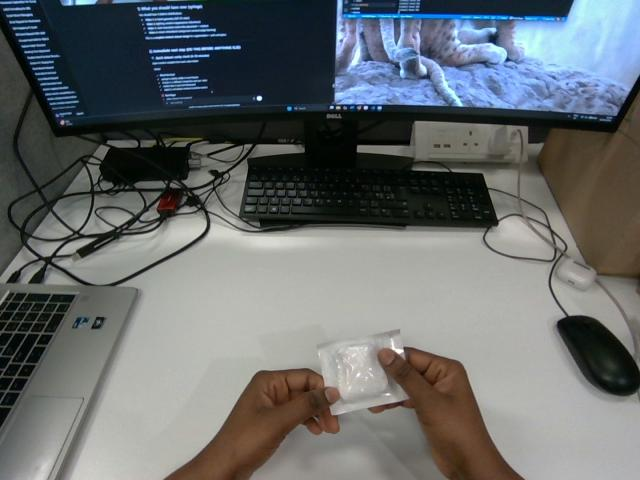gauze: (318, 330, 407, 414)
